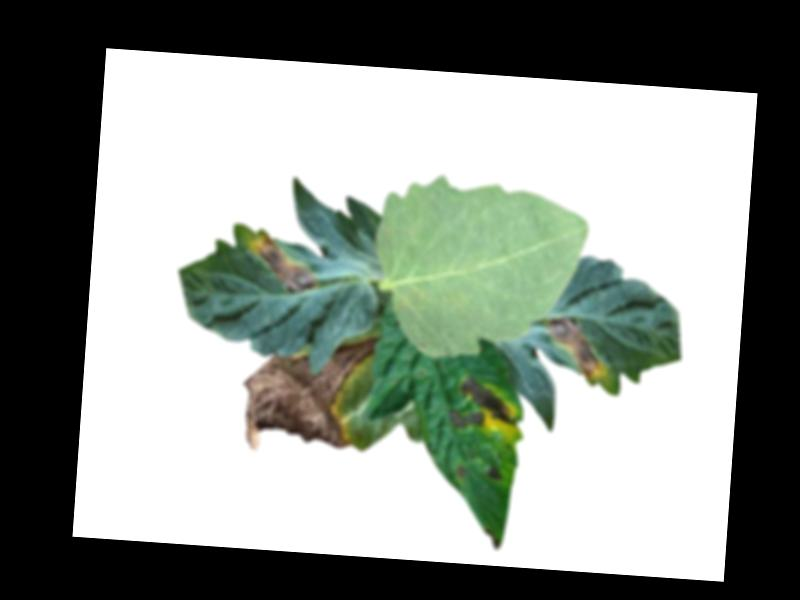Early_blight: (238, 328, 380, 460), (244, 229, 319, 294), (544, 315, 608, 382), (448, 373, 519, 433), (482, 523, 502, 549), (484, 461, 504, 482), (454, 464, 467, 478)
healthy: (364, 167, 592, 367)
